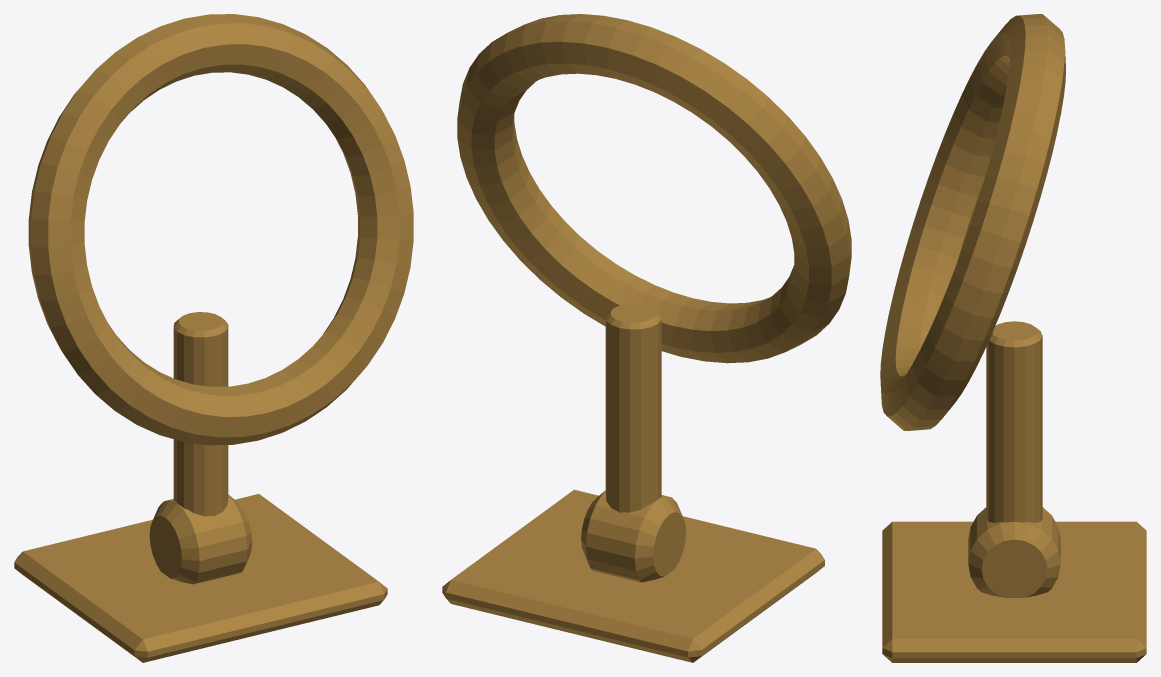
Rendered from mentor_loupe.glb.
3 renders of one model, left to right at view 1: azimuth 30°, elevation 25°; view 2: azimuth 150°, elevation 25°; view 3: azimuth 270°, elevation 25°, orthographic. The views are drawn at different scales.
Visible parts, largest first — view 1: mentor_loupe; view 2: mentor_loupe; view 3: mentor_loupe.
Part boxes in pixels (x1,y1,x2,y2): mentor_loupe: (14,14,413,662); mentor_loupe: (442,14,851,662); mentor_loupe: (880,14,1146,662).
Size of the model in its own units: 0.266 by 0.38 by 0.1612.
